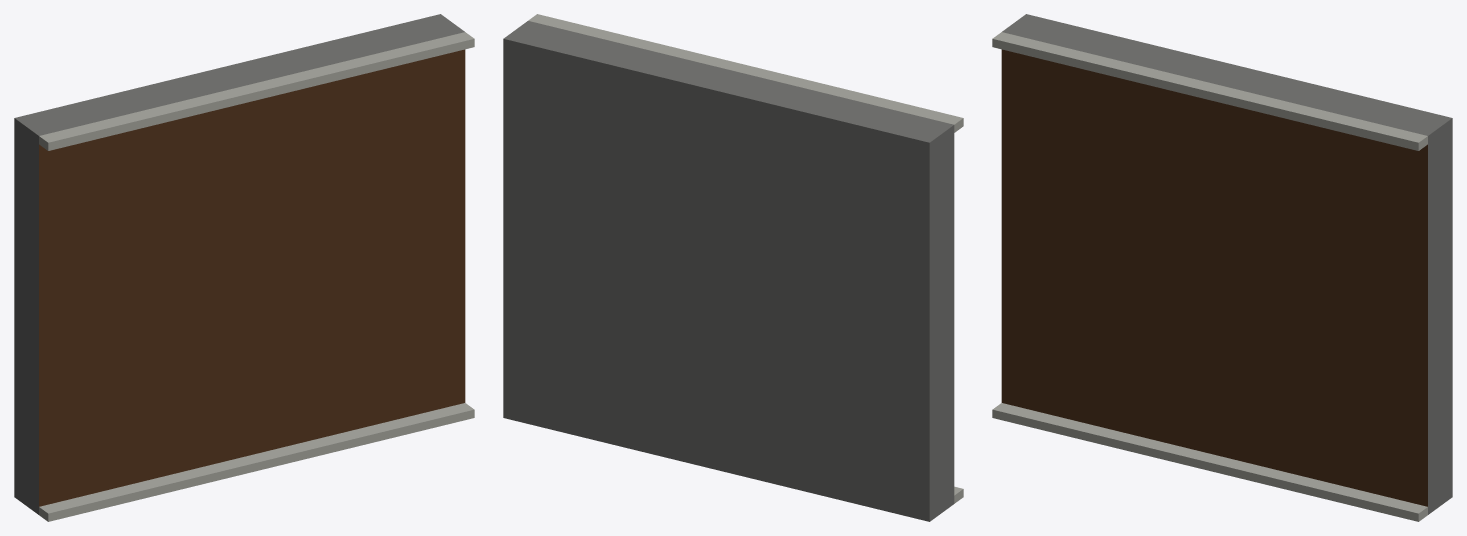
File: ramp_flat.glb
3 renders of one model, left to right at view 1: azimuth 30°, elevation 25°; view 2: azimuth 150°, elevation 25°; view 3: azimuth 330°, elevation 25°, orthographic.
Parts seen in each view (by area): view 1: bridge_02_ramp_flat; view 2: bridge_02_ramp_flat; view 3: bridge_02_ramp_flat.
Boxes of the visible parts, x1,y1,x2,y2 form: bridge_02_ramp_flat: [14, 14, 474, 521]; bridge_02_ramp_flat: [503, 14, 963, 521]; bridge_02_ramp_flat: [992, 14, 1452, 521].
Bounding box in the file's own units: 16 × 13.6 × 2.2.
